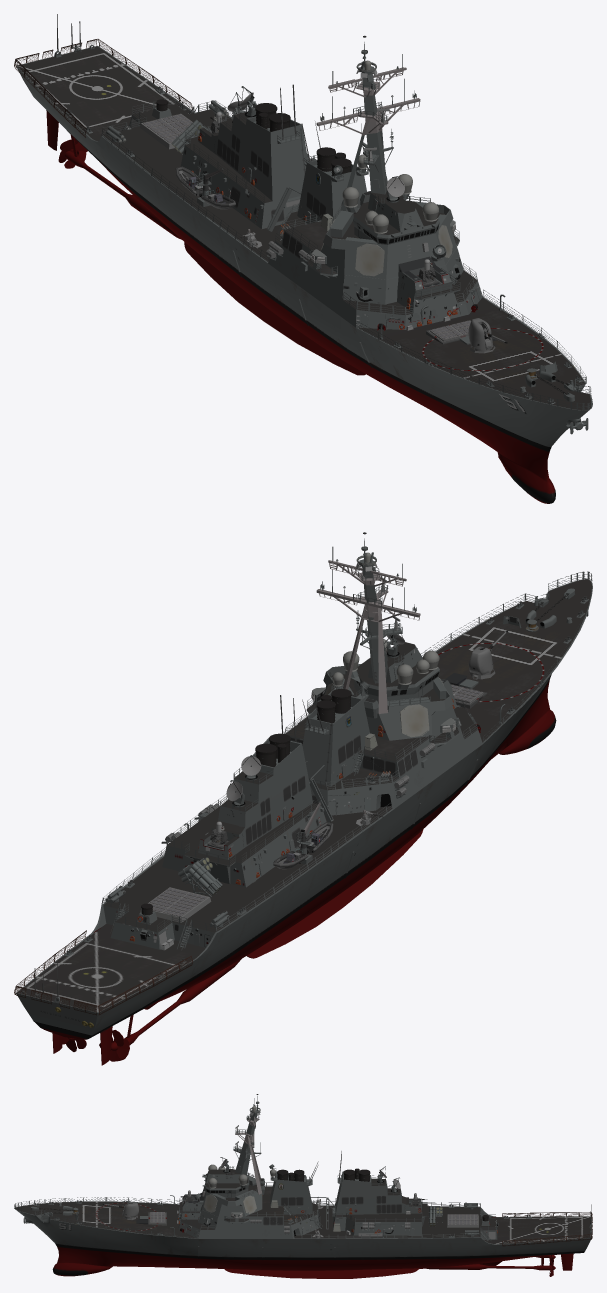
The picture shows the model from 3 angles, top to bottom: view 1: azimuth 30°, elevation 25°; view 2: azimuth 150°, elevation 25°; view 3: azimuth 270°, elevation 25°; orthographic projection. The views are drawn at different scales.
Visible parts, largest first — view 1: DDG51_5, RHIB_final_9, SPG62_FINAL_10; view 2: DDG51_5, SPG62_FINAL_10, RHIB_final_9; view 3: DDG51_5, SPG62_FINAL_10.
Part boxes in pixels (<box>): DDG51_5: <box>14,14,592,503</box>; RHIB_final_9: <box>175,166,235,209</box>; SPG62_FINAL_10: <box>227,86,404,202</box>; DDG51_5: <box>14,532,592,1065</box>; SPG62_FINAL_10: <box>226,624,404,807</box>; RHIB_final_9: <box>273,822,333,869</box>; DDG51_5: <box>14,1094,592,1278</box>; SPG62_FINAL_10: <box>220,1157,400,1192</box>.
Size of the model in its own units: 24.73 by 53.18 by 154.
5 materials, 5 textured.
